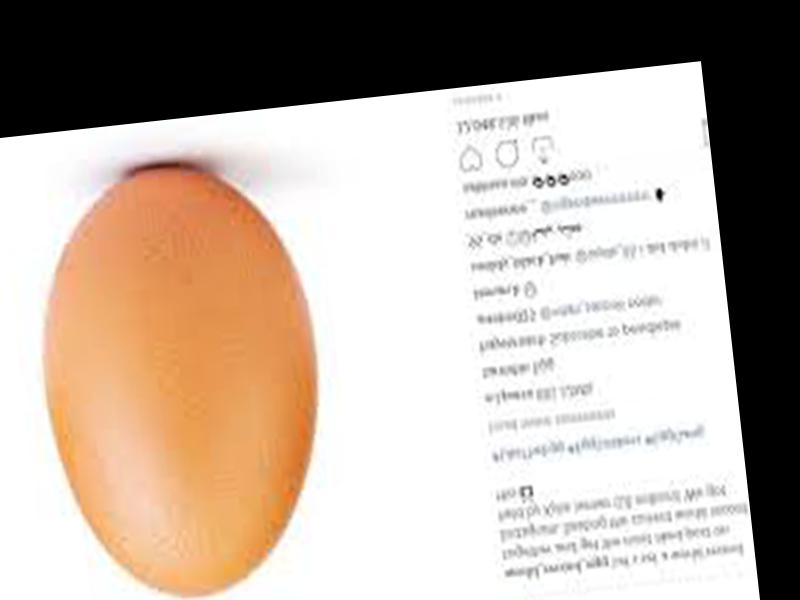Eggs: (20, 156, 339, 600)
